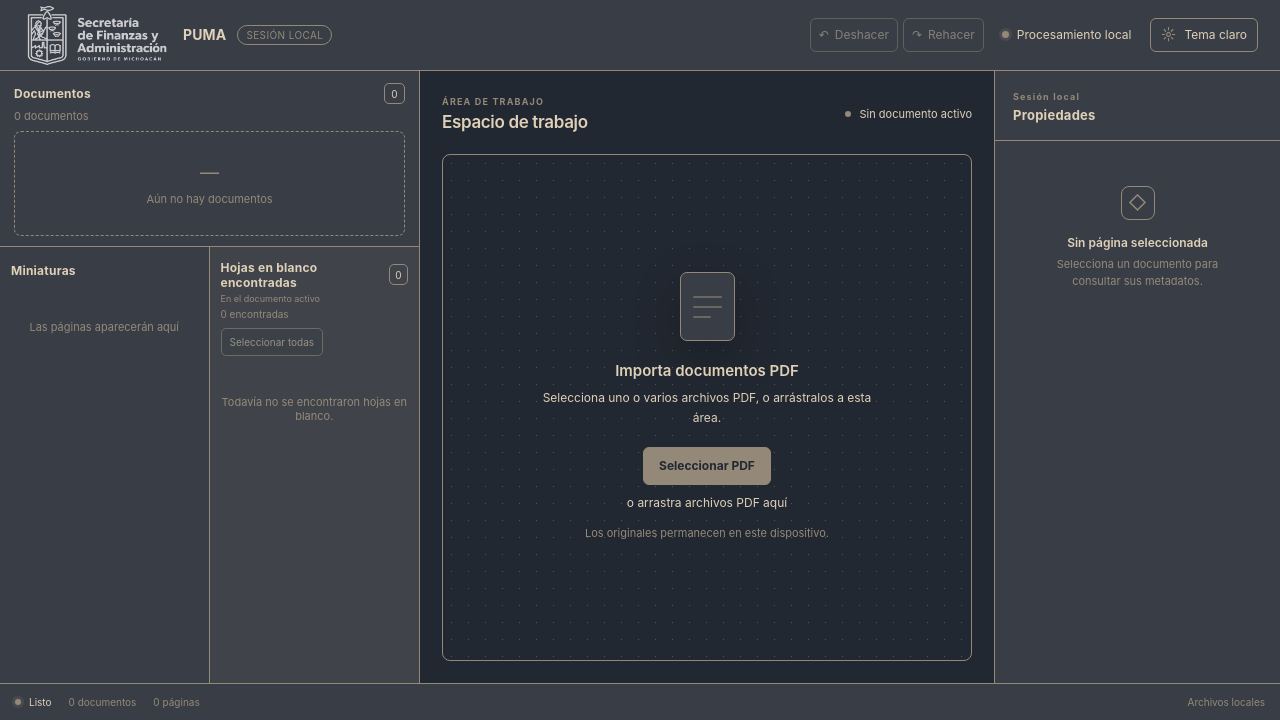
Test case: Document Studio initial workspace › starts in dark mode and switches theme accessibly
Click the button with aria-label "Cambiar a tema claro".
click(1204, 35)  # box left=1150, top=18, right=1258, bottom=52
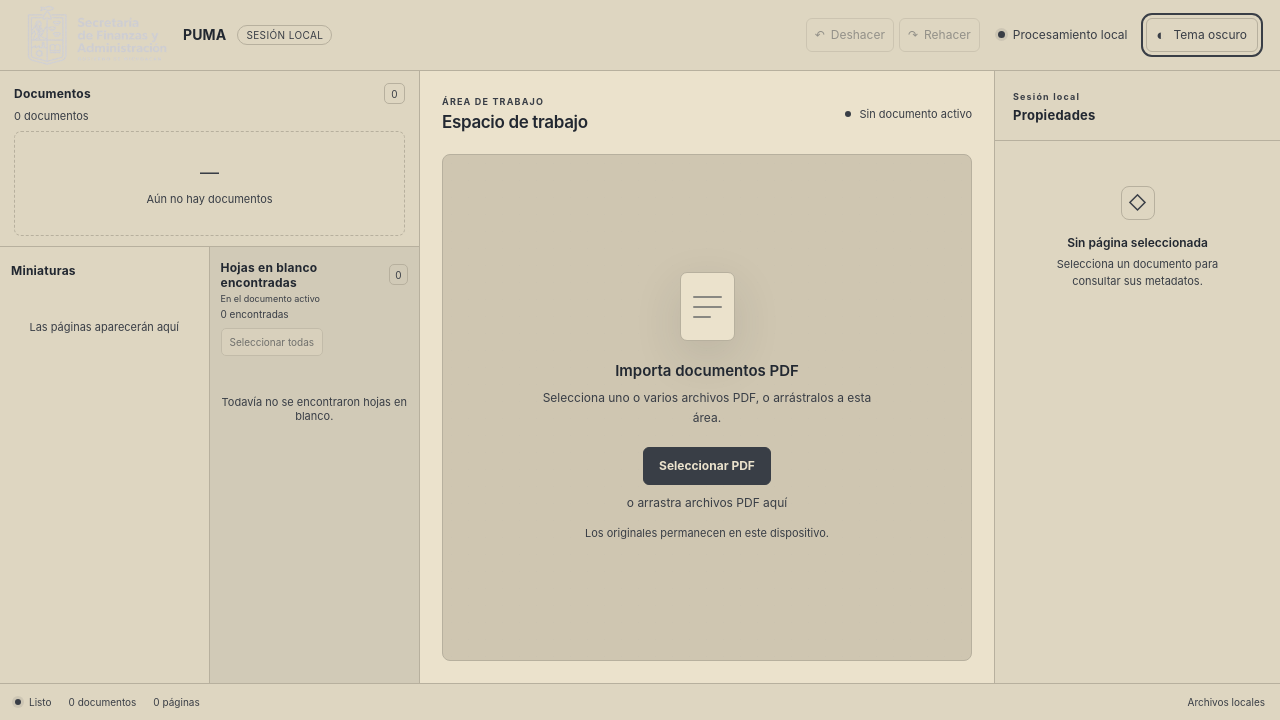
Now the element with class "app-shell" has attribute data-theme="light"
Now the button with aria-label "Cambiar a tema oscuro" is pressed, box left=1146, top=18, right=1258, bottom=52
